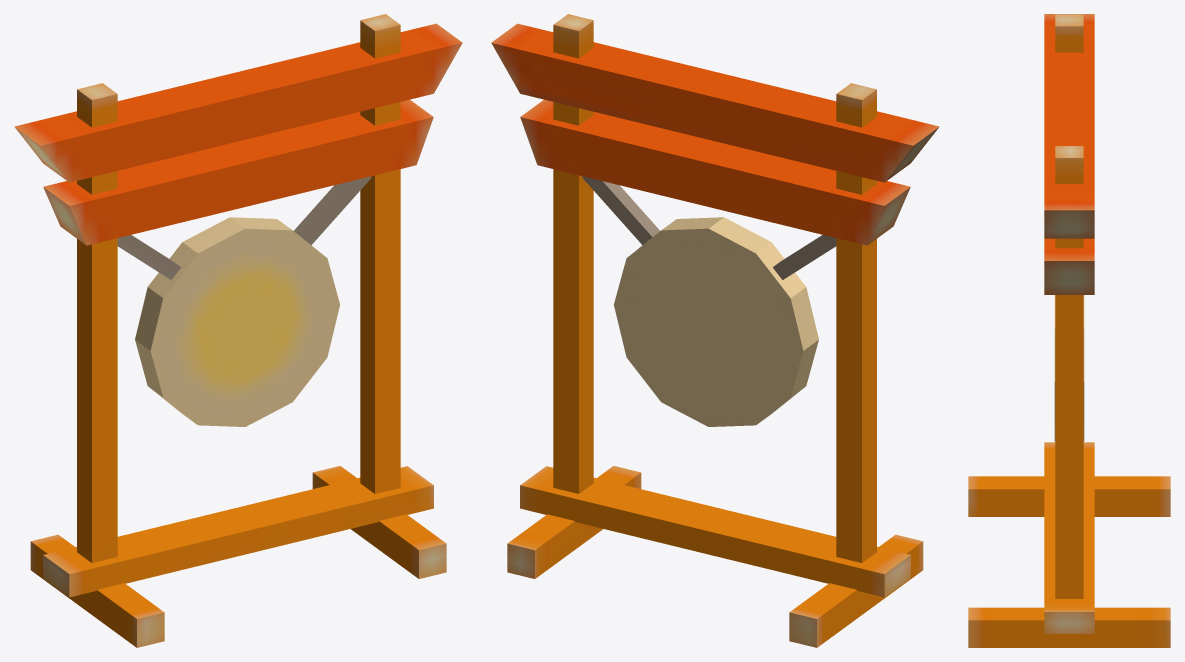
Rendered from kit-gong.glb.
3 renders of one model, left to right at view 1: azimuth 30°, elevation 25°; view 2: azimuth 150°, elevation 25°; view 3: azimuth 270°, elevation 25°, orthographic. The views are drawn at different scales.
Parts seen in each view (by area): view 1: Cube.336; view 2: Cube.336; view 3: Cube.336.
Part boxes in pixels (left/top/right/bottom): Cube.336: left=14, top=14, right=462, bottom=647; Cube.336: left=491, top=14, right=939, bottom=647; Cube.336: left=968, top=14, right=1170, bottom=647.
Size of the model in its own units: 1.55 by 1.8 by 0.674.
1 material, 1 textured.
